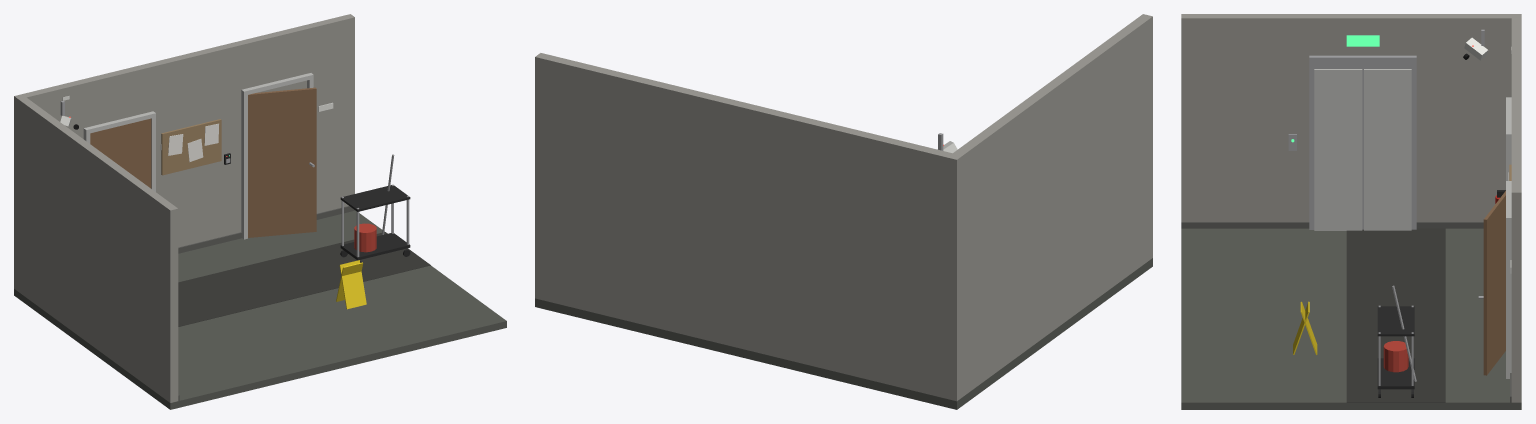
The model's file is flur-4og.glb.
The picture shows the model from 3 angles, left to right: view 1: azimuth 30°, elevation 25°; view 2: azimuth 150°, elevation 25°; view 3: azimuth 270°, elevation 25°; orthographic projection. The views are drawn at different scales.
Visible parts, largest first — view 1: Wand_links, Wand_hinten, Boden, Tuer_412_Blatt, Laufstreifen, Tuer_411_Blatt, Pinnwand, Putzwagen_Ablage, Tuer_412_Zarge_l, Putzwagen_Boden, Warnschild_1, Sockel_hinten (+3 smaller); view 2: Wand_hinten, Wand_links, Boden; view 3: Wand_links, Boden, Laufstreifen, Lift_Tuer_a, Lift_Tuer_b, Wand_hinten, Lift_Rahmen, Tuer_412_Blatt, Sockel_links, Putzwagen_Ablage, Tuer_412_Zarge_r, Putzwagen_Boden (+3 smaller).
Part boxes in pixels (box(x1,y1,x2,y2)): Wand_links: box(14, 96, 178, 402); Wand_hinten: box(14, 14, 354, 291); Boden: box(14, 210, 506, 409); Tuer_412_Blatt: box(248, 87, 316, 237); Laufstreifen: box(178, 232, 430, 326); Tuer_411_Blatt: box(90, 118, 151, 188); Pinnwand: box(161, 119, 221, 175); Putzwagen_Ablage: box(340, 185, 410, 211); Tuer_412_Zarge_l: box(241, 89, 247, 239); Putzwagen_Boden: box(340, 233, 410, 260); Warnschild_1: box(339, 260, 366, 309); Sockel_hinten: box(178, 206, 355, 253); Wand_hinten: box(535, 53, 962, 401); Wand_links: box(947, 14, 1152, 400); Boden: box(535, 258, 1152, 409); Wand_links: box(1181, 14, 1521, 221); Boden: box(1181, 228, 1521, 409); Laufstreifen: box(1346, 228, 1445, 402); Lift_Tuer_a: box(1314, 69, 1362, 230); Lift_Tuer_b: box(1364, 69, 1411, 230); Wand_hinten: box(1511, 14, 1521, 402); Lift_Rahmen: box(1309, 55, 1416, 229); Tuer_412_Blatt: box(1483, 191, 1505, 375); Sockel_links: box(1181, 222, 1483, 228); Putzwagen_Ablage: box(1377, 306, 1414, 336); Tuer_412_Zarge_r: box(1506, 216, 1511, 378); Putzwagen_Boden: box(1377, 358, 1414, 389).
Size of the model in its own units: 5.12 by 2.9 by 4.12.
